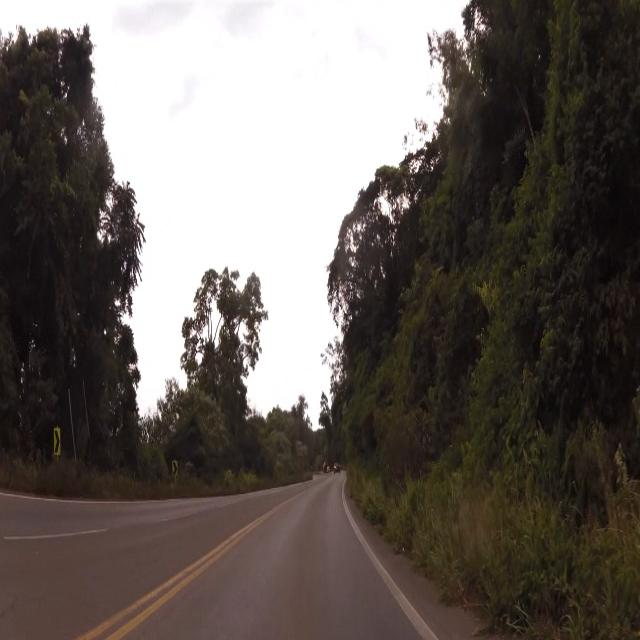Del: (52, 426, 61, 454)
